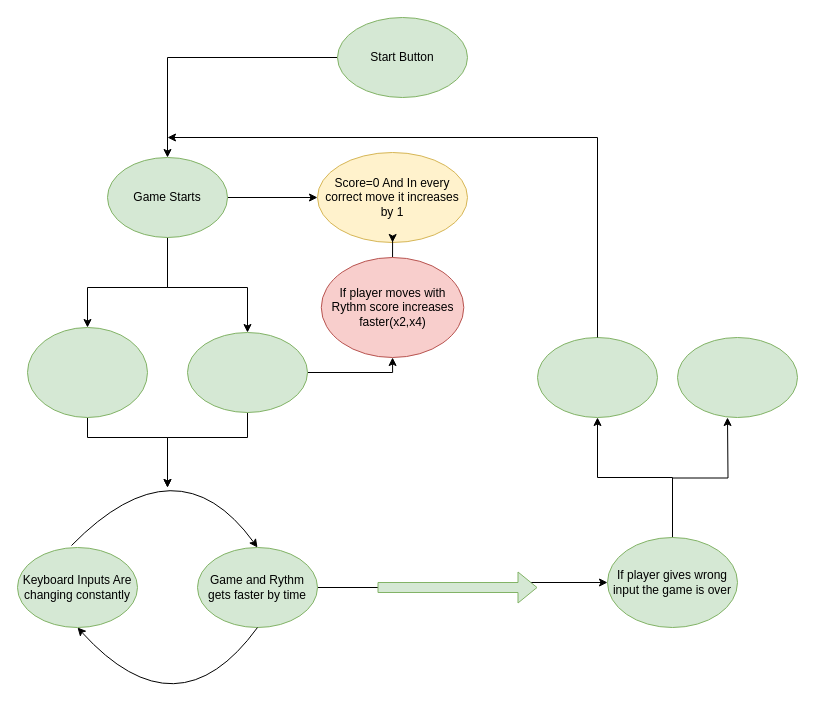
Image size: 815x702. Some labels were removed from this diagram. The centre of each missing label's shape, as x and y in pixels:
Rythm Starts: the point at 247,372
Score Shows Up: the point at 737,377
Try Again Button Shows Up: the point at 597,377
Use A-D To Move: the point at 87,372
